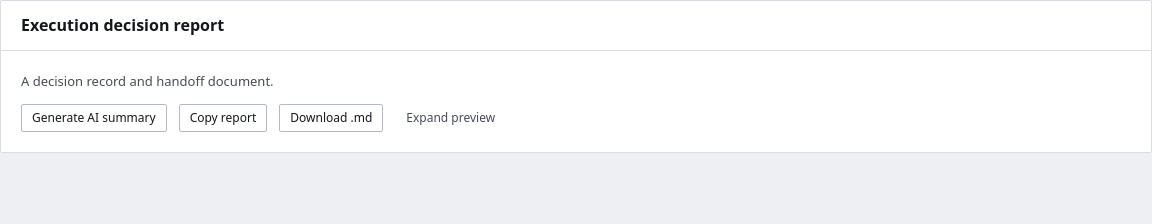
Scenario: ActionReportWorkspace › AI error typing — distinct copy per HTTP status, not one folded message › 409 ai_not_configured
The width and height of the screenshot is (1152, 224).
Click the button "Generate AI summary". click: (94, 118)
box: [21,104,167,132]
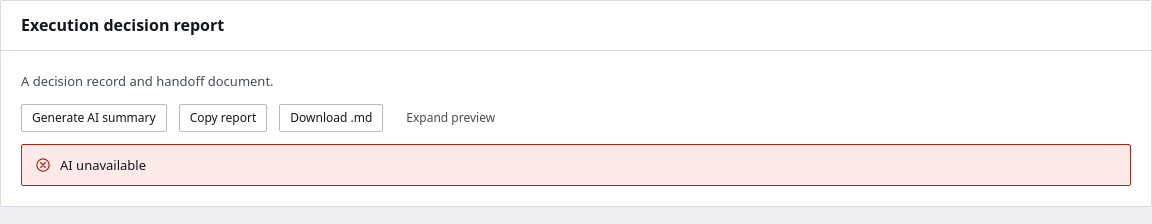
Expected: the text "AI unavailable" is shown, [60,155,146,175]
